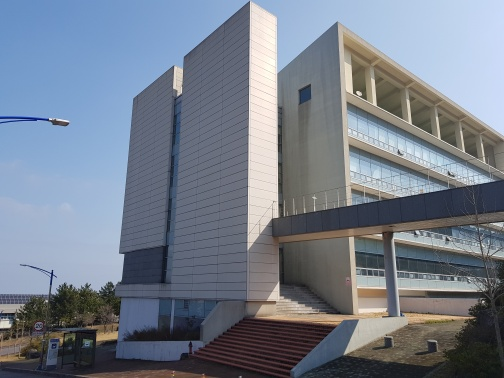Engineering College Building 4: (90, 42, 484, 368), (118, 26, 495, 313), (278, 39, 453, 306), (134, 35, 233, 304)
